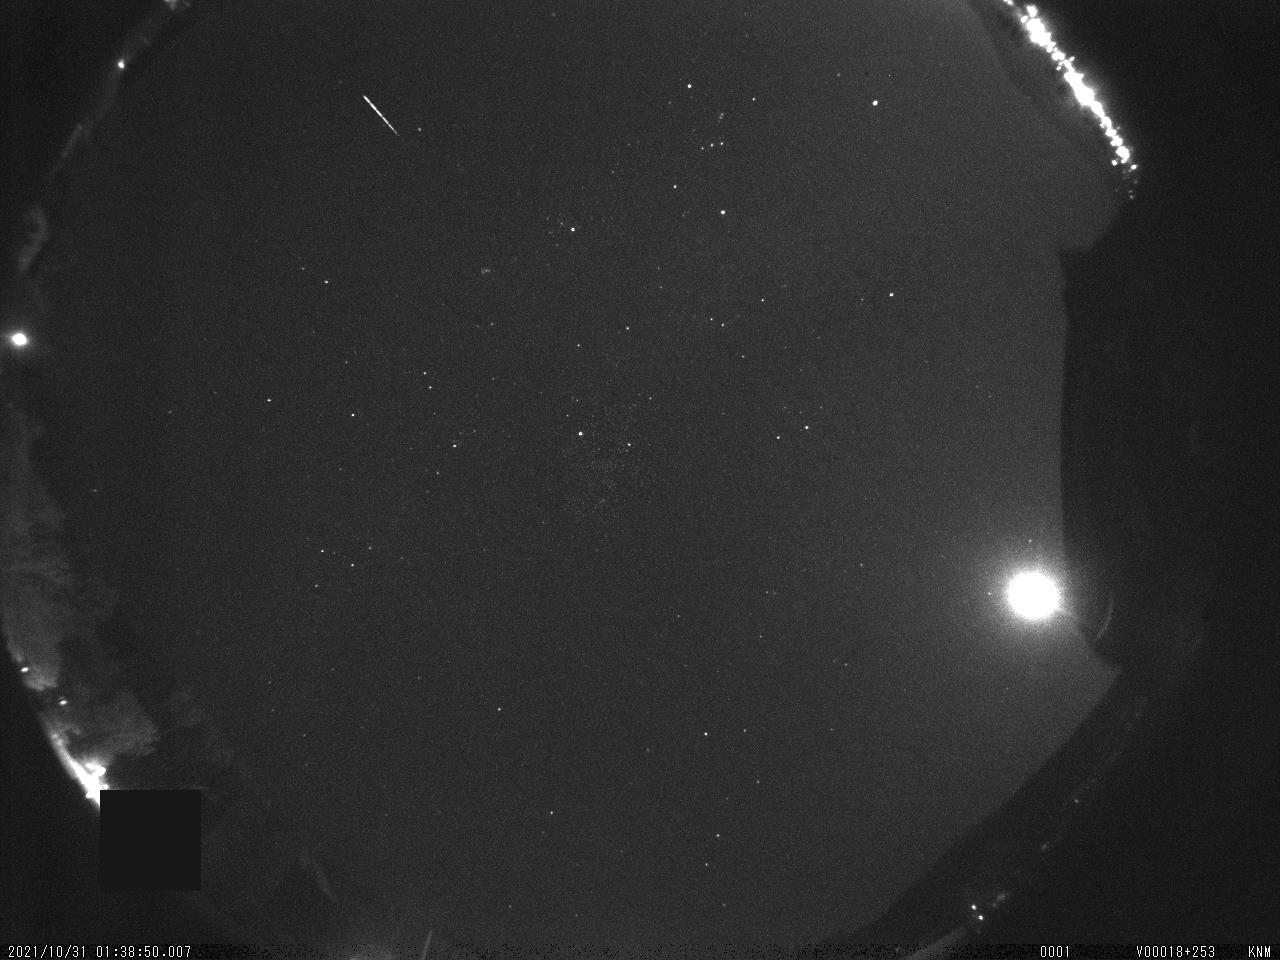meteor: (345, 84, 414, 147)
